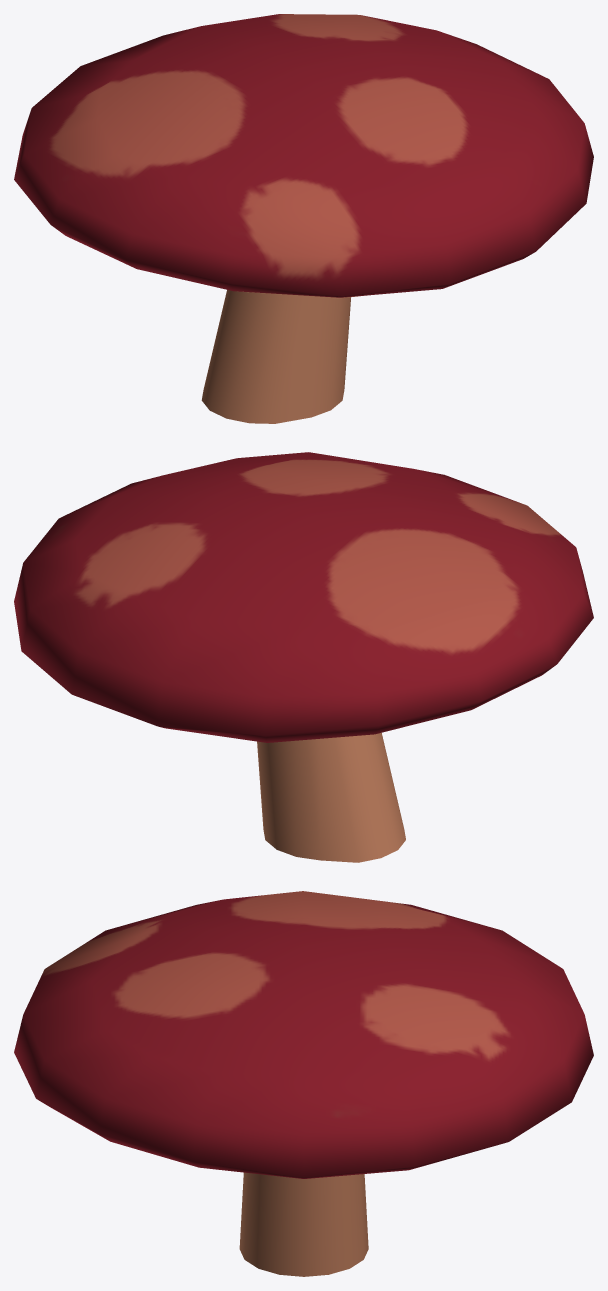
File: mushroom C.FBX
3 views of the same model, one above another, from view 1: azimuth 30°, elevation 25°; view 2: azimuth 150°, elevation 25°; view 3: azimuth 270°, elevation 25° (orthographic).
Parts seen in each view (by area): view 1: mushroom C; view 2: mushroom C; view 3: mushroom C.
Boxes of the visible parts, x1,y1,x2,y2 form: mushroom C: (14,14,593,423); mushroom C: (14,452,593,862); mushroom C: (14,891,593,1276).
Bounding box in the file's own units: 79.38 × 47.14 × 79.19.
